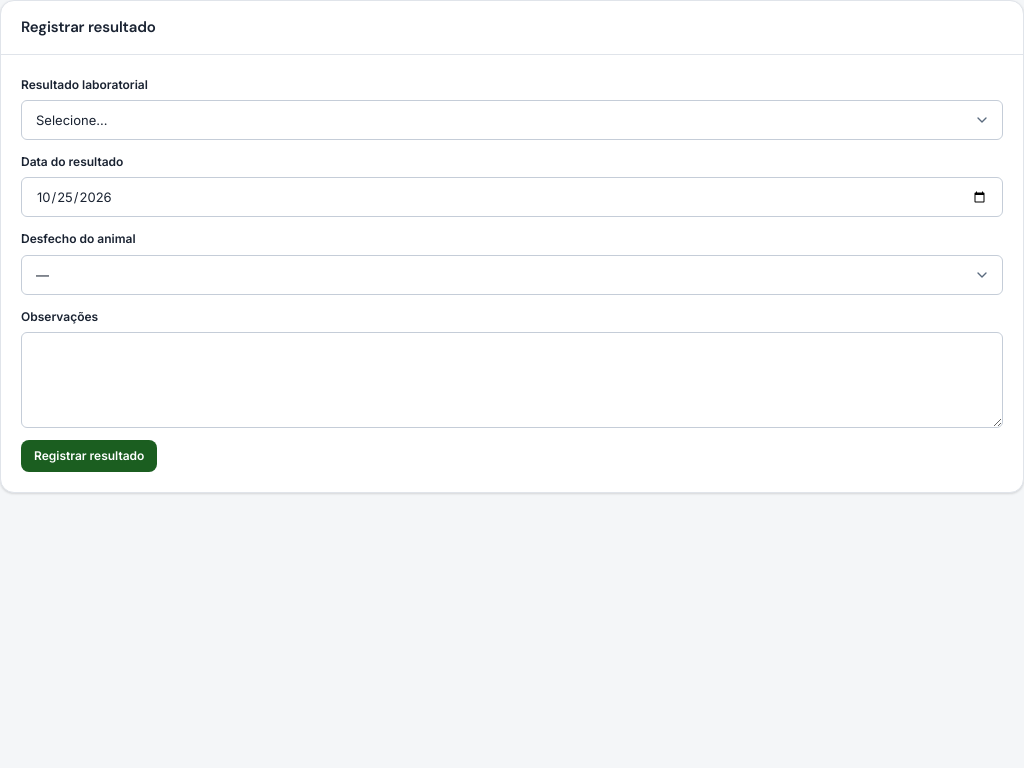
Test: CardResultadoProcesso — confirmação do positivo definitivo (T35-15) › cancelar e reabrir: a confirmação volta desmarcada e nada é enviado
Select "Positivo" in the dropdown labelled "Resultado laboratorial": (512,120) top-left (21, 100), bottom-right (1003, 140)
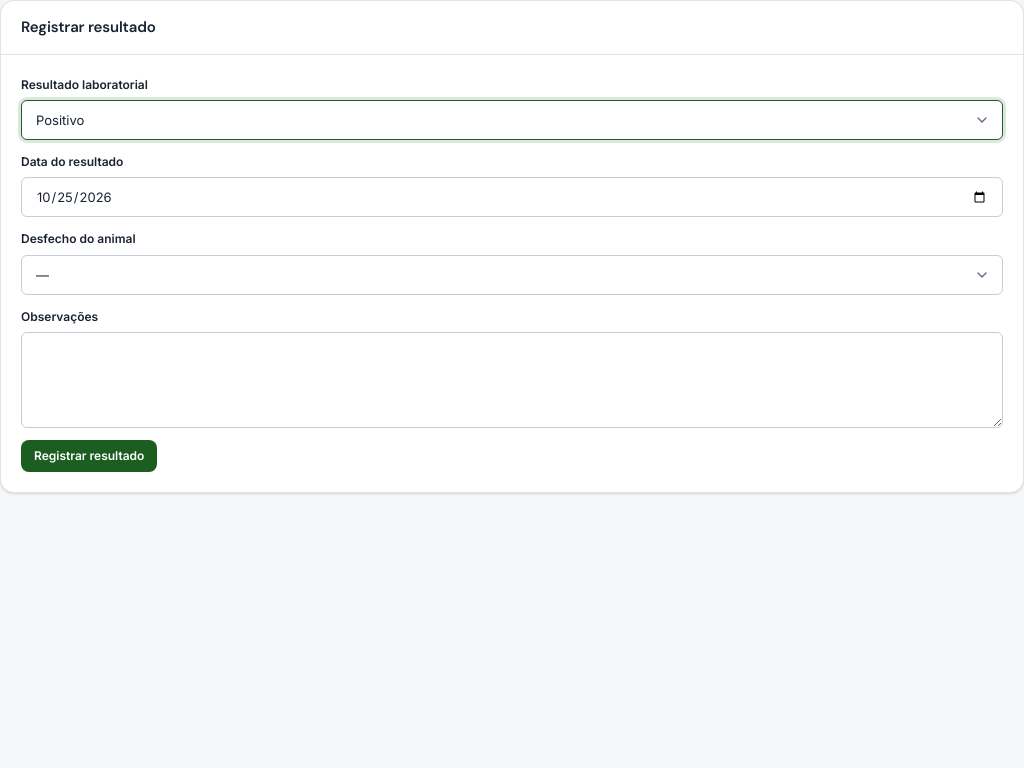
Click the button "Registrar resultado": (89,456) top-left (21, 440), bottom-right (157, 472)
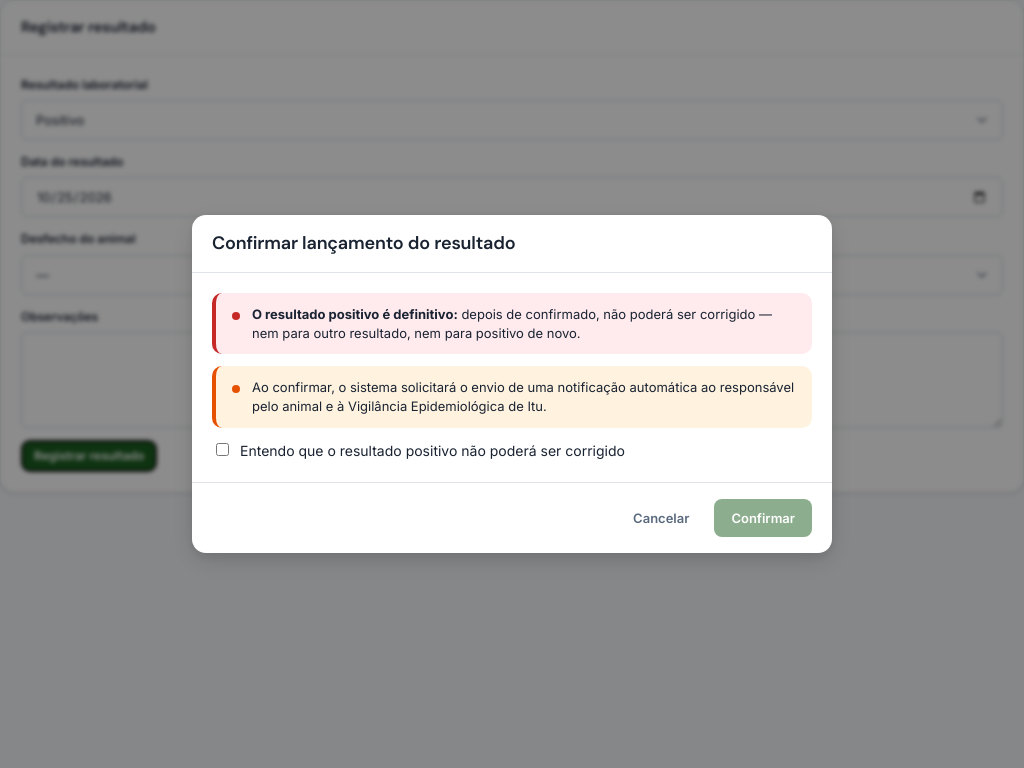
Click the checkbox labelled "Entendo que o resultado positivo não poderá ser corrigido": (222,450) top-left (216, 443), bottom-right (229, 456)
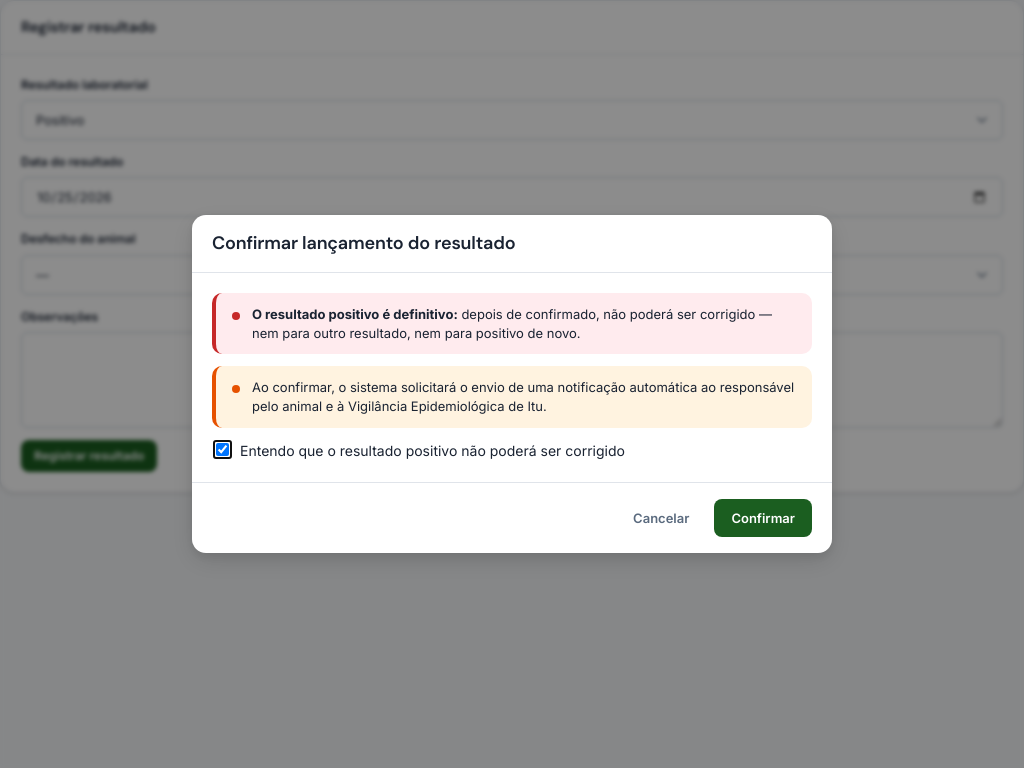
Click the button "Cancelar": (661,518) top-left (616, 500), bottom-right (706, 538)
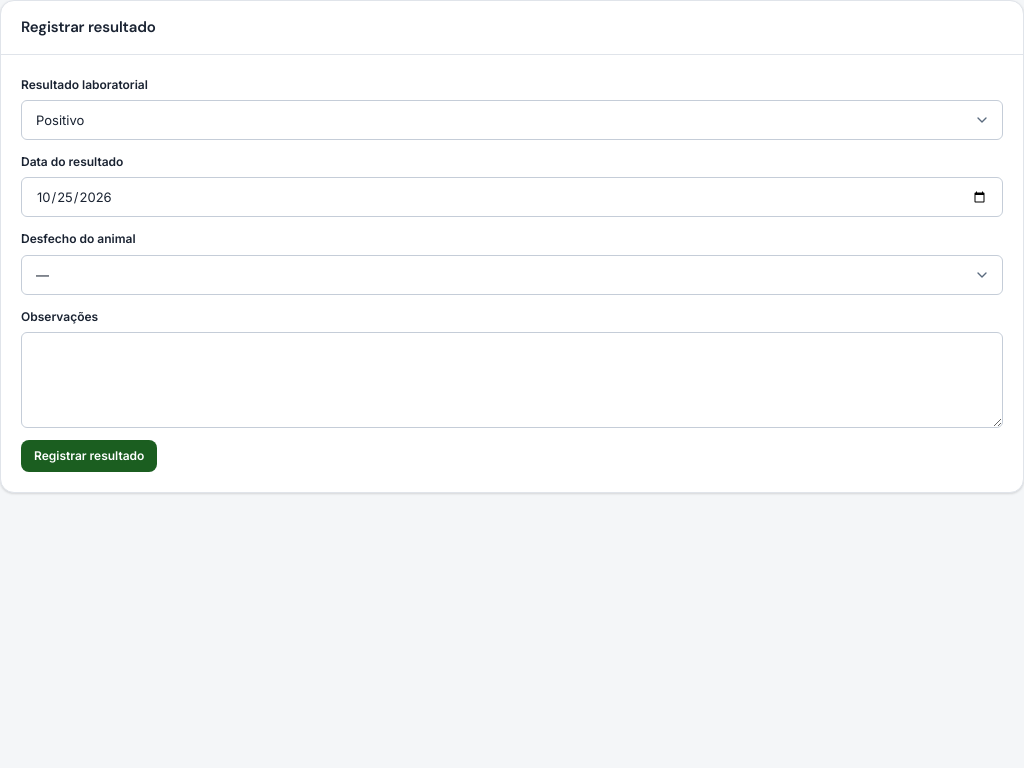
Result: the checkbox is gone
Click the button "Registrar resultado": (89,456) top-left (21, 440), bottom-right (157, 472)
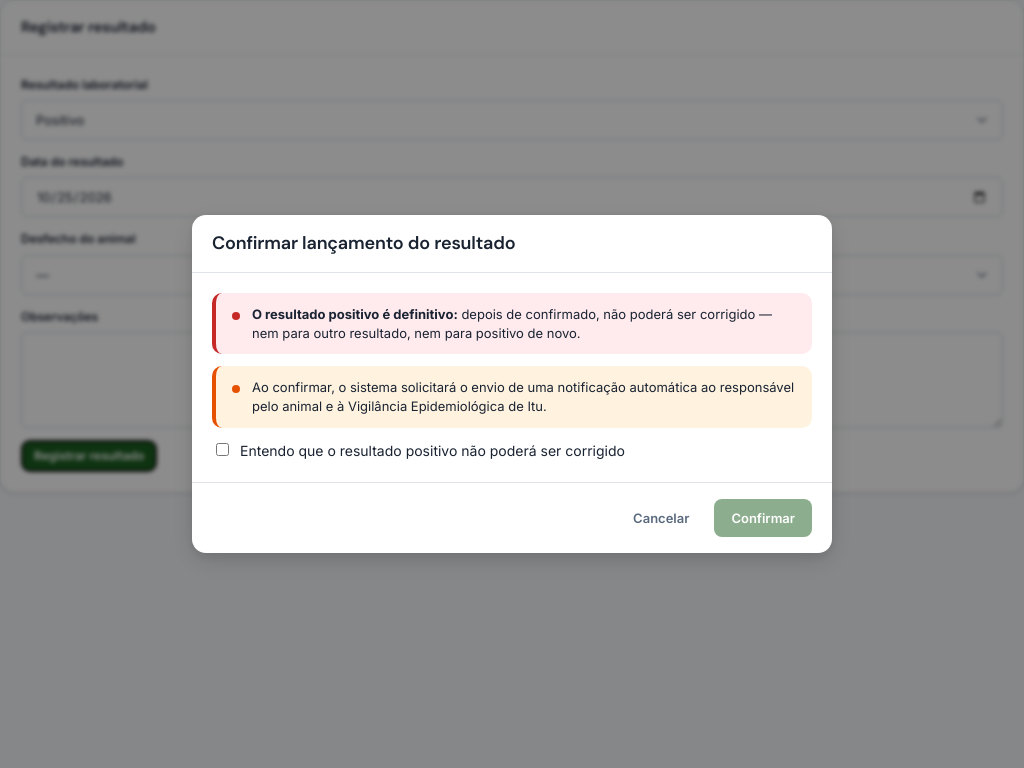
Result: the checkbox labelled "Entendo que o resultado positivo não poderá ser corrigido" is not checked at top-left (216, 443), bottom-right (229, 456)
Result: the button "Confirmar" is disabled at top-left (714, 500), bottom-right (812, 538)
